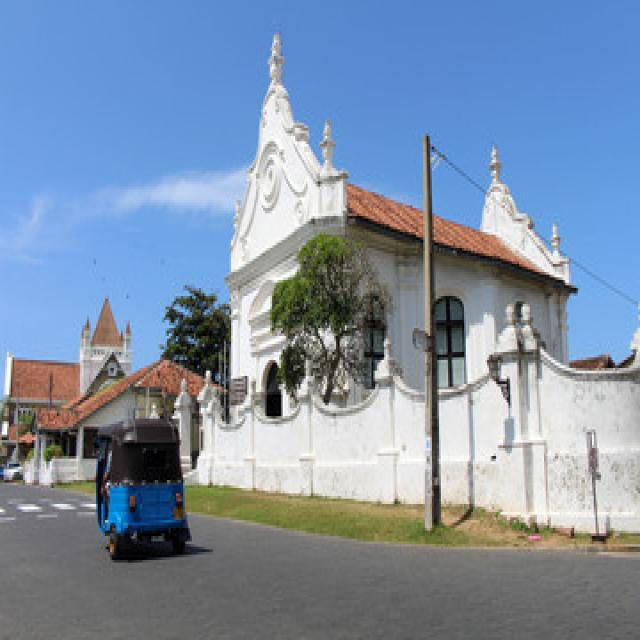three wheeler: (96, 419, 188, 557)
